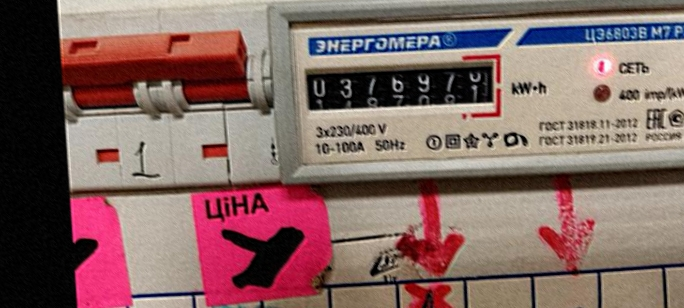0: (311, 75, 326, 98)
1: (469, 83, 481, 103)
3: (339, 77, 354, 99)
6: (390, 69, 406, 93)
7: (364, 72, 380, 97), (442, 69, 458, 93)
9: (416, 70, 431, 93)
screen: (295, 43, 509, 132)
